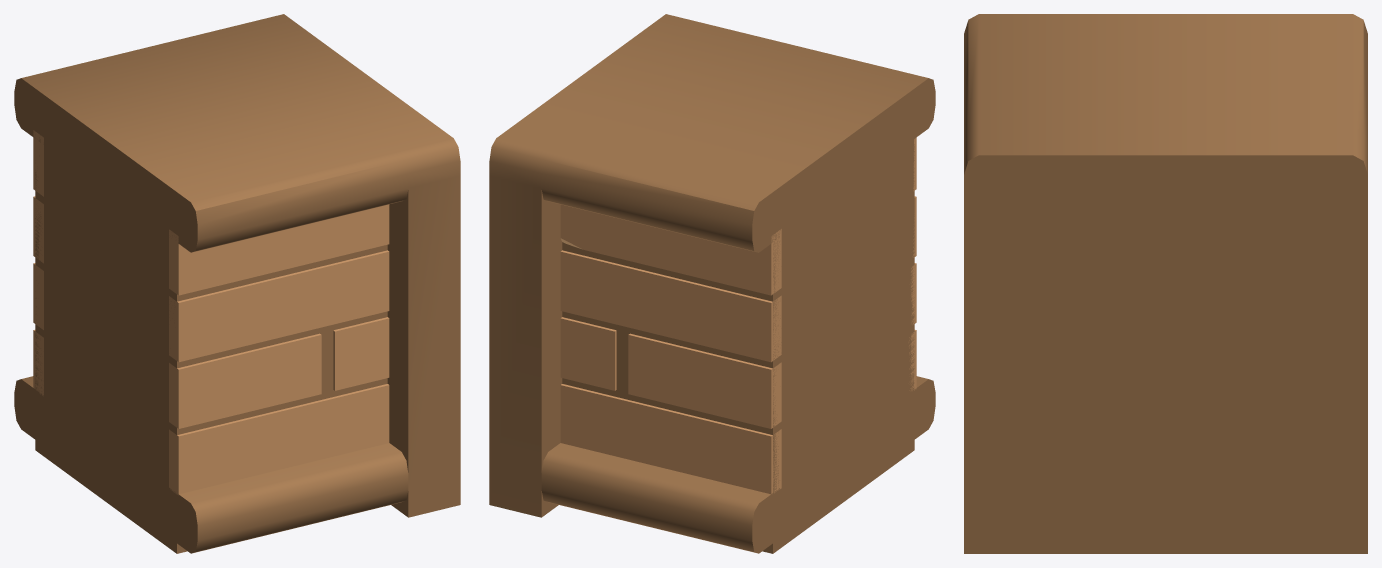
File: counter_end.glb
3 renders of one model, left to right at view 1: azimuth 30°, elevation 25°; view 2: azimuth 150°, elevation 25°; view 3: azimuth 270°, elevation 25°, orthographic. The views are drawn at different scales.
Parts seen in each view (by area): view 1: Environment_Counter_End; view 2: Environment_Counter_End; view 3: Environment_Counter_End.
Part boxes in pixels (left/top/right/bottom): Environment_Counter_End: left=14, top=14, right=460, bottom=553; Environment_Counter_End: left=489, top=14, right=935, bottom=553; Environment_Counter_End: left=964, top=14, right=1367, bottom=553.
Size of the model in its own units: 1.46 by 1.92 by 1.77.
1 material, 1 textured.
